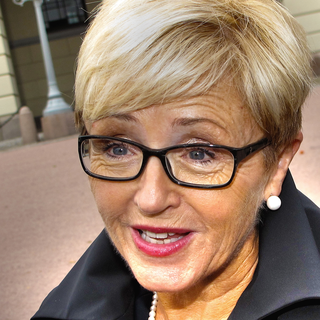eye: (180, 141, 223, 167), (97, 138, 138, 163)
